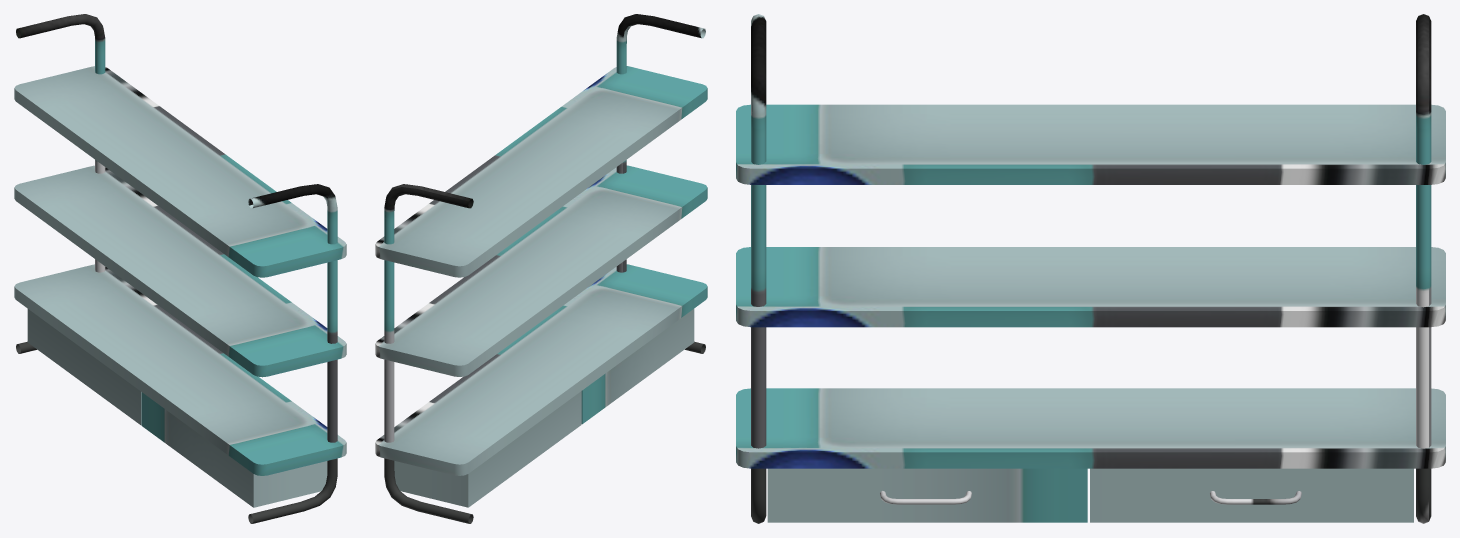
Rendered from etagere2.FBX.
3 views of the same model, side by side, from view 1: azimuth 30°, elevation 25°; view 2: azimuth 150°, elevation 25°; view 3: azimuth 270°, elevation 25° (orthographic). The views are drawn at different scales.
Visible parts, largest first — view 1: etagere; view 2: etagere; view 3: etagere.
Boxes of the visible parts, x1=… form: etagere: x1=14, y1=14, x2=346, y2=523; etagere: x1=375, y1=14, x2=707, y2=523; etagere: x1=736, y1=14, x2=1445, y2=523.
Size of the model in its own units: 32.54 by 99.94 by 138.
